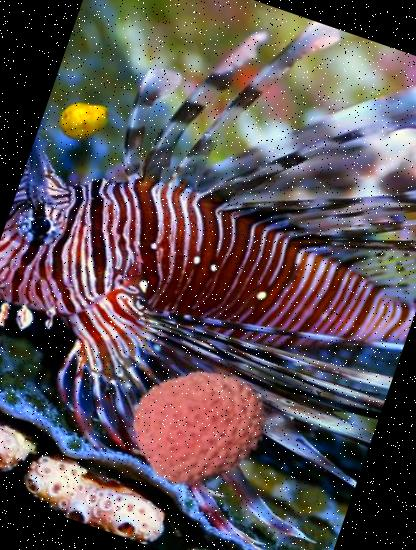Lychee: (115, 340, 287, 512)
Pear: (52, 84, 122, 153)
